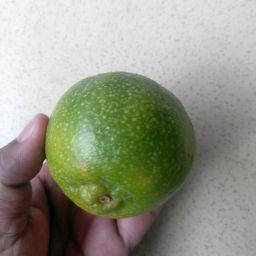Unripe: (45, 74, 194, 217)
